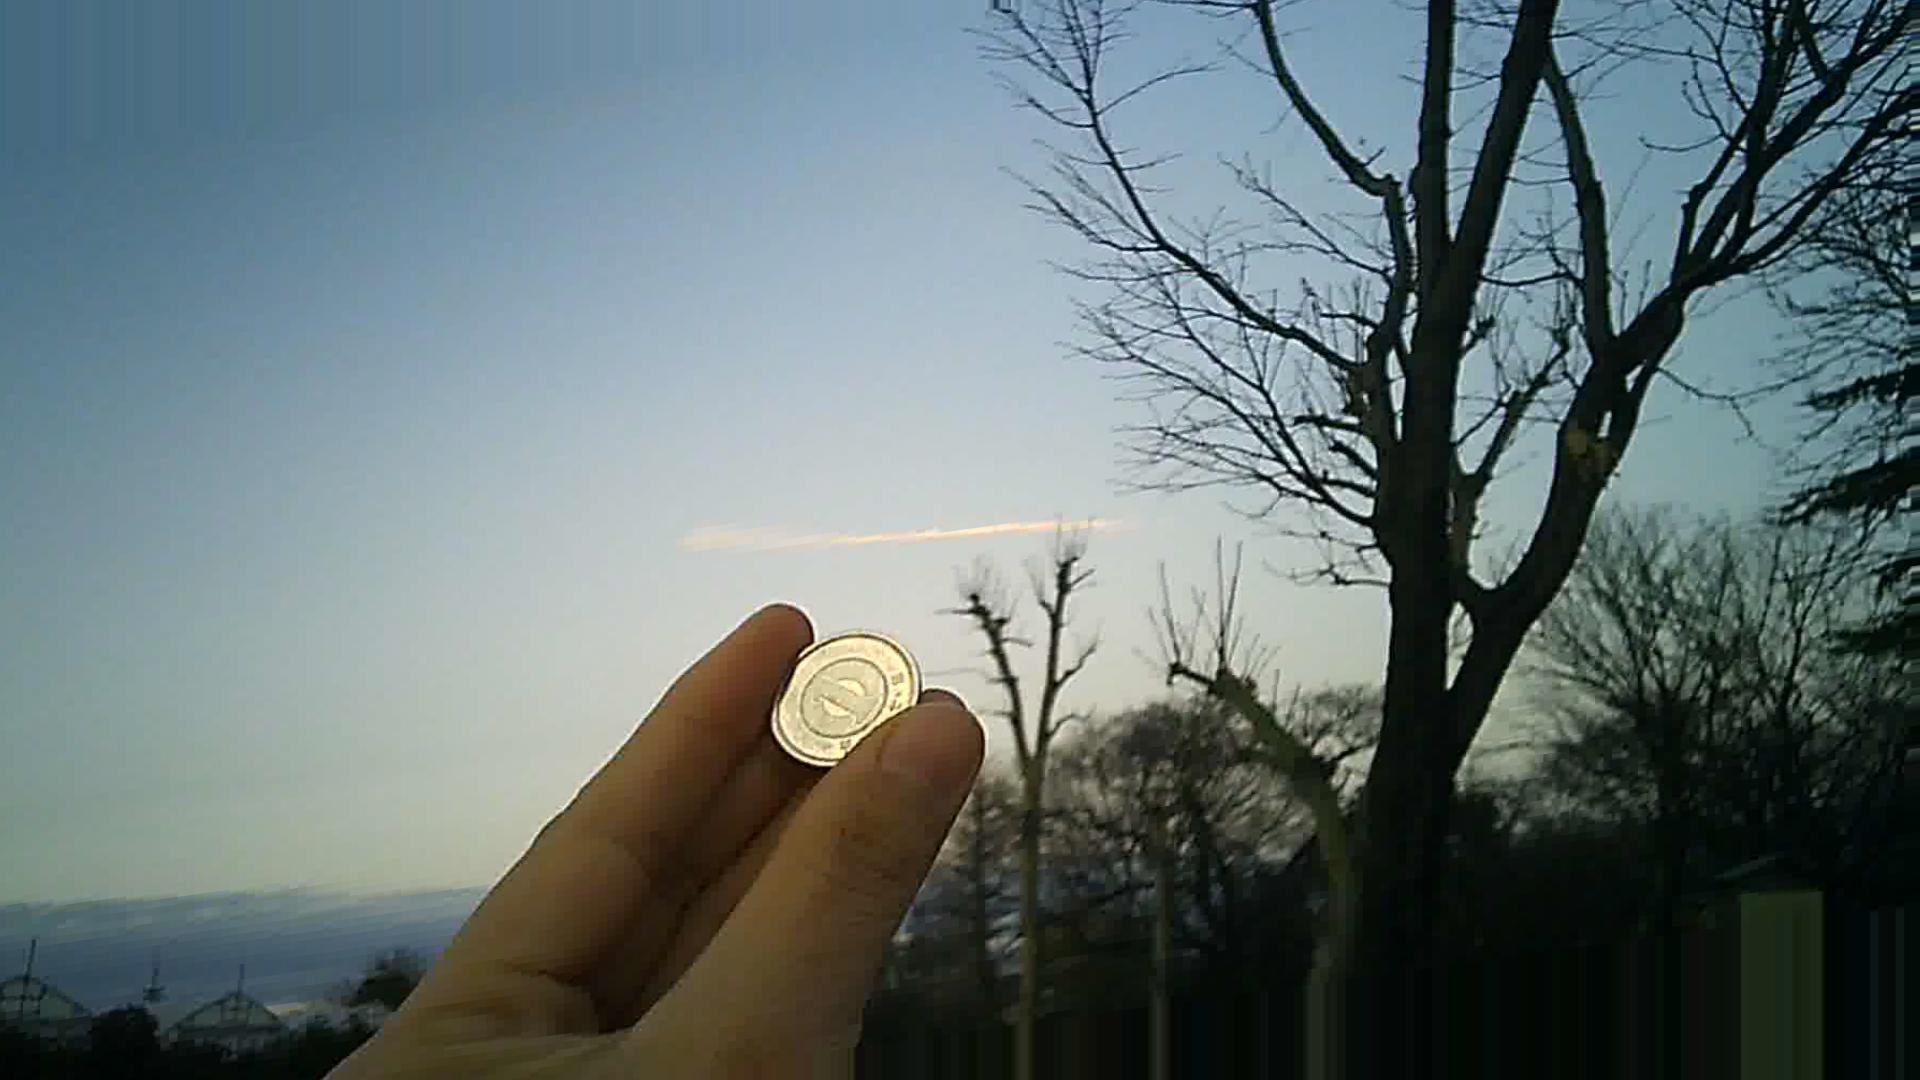1 Yen: (771, 618, 923, 773)
